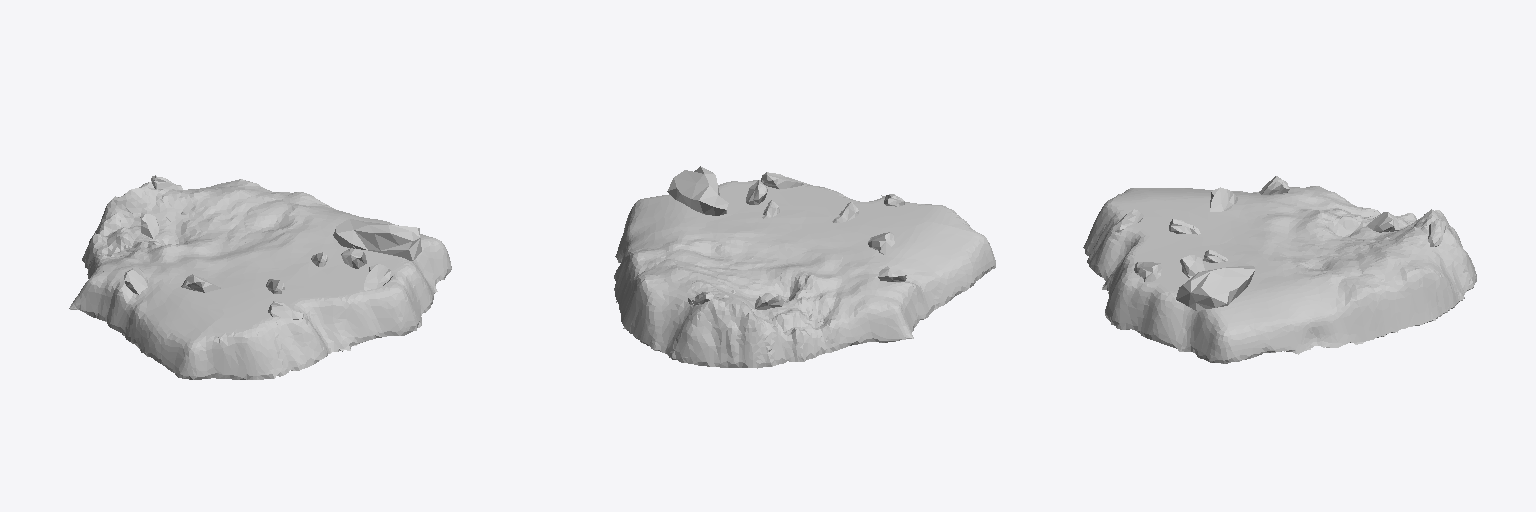
Rendered from Terreno map.obj.
3 renders of one model, left to right at view 1: azimuth 30°, elevation 25°; view 2: azimuth 150°, elevation 25°; view 3: azimuth 270°, elevation 25°, orthographic.
Visible parts, largest first — view 1: Main_Ground; view 2: Main_Ground; view 3: Main_Ground.
Part boxes in pixels (x1,y1,x2,y2): Main_Ground: (69,175,451,379); Main_Ground: (614,166,995,368); Main_Ground: (1083,176,1476,363).
Bounding box in the file's own units: 8.44 × 1.59 × 8.67.